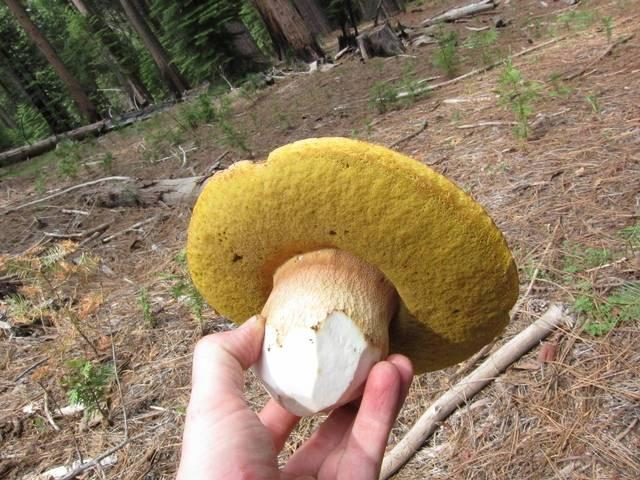Edible Mushroom: (184, 134, 520, 417)
